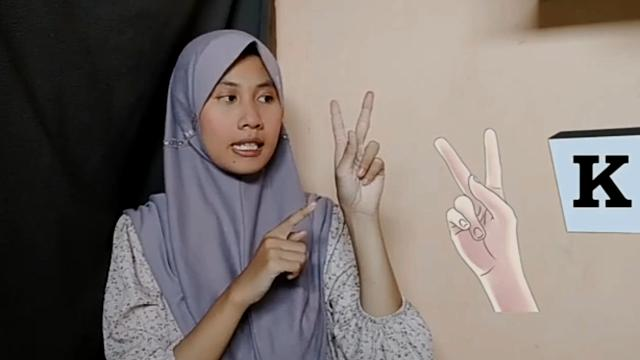K: (328, 90, 392, 221)
